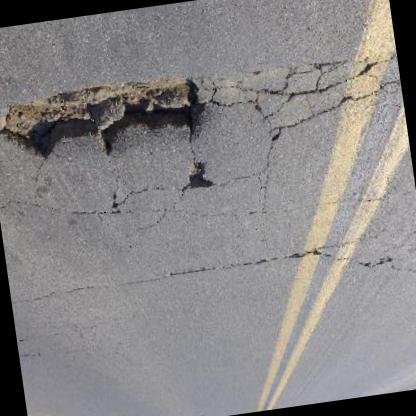pothole: (0, 69, 217, 173), (183, 158, 216, 194)
